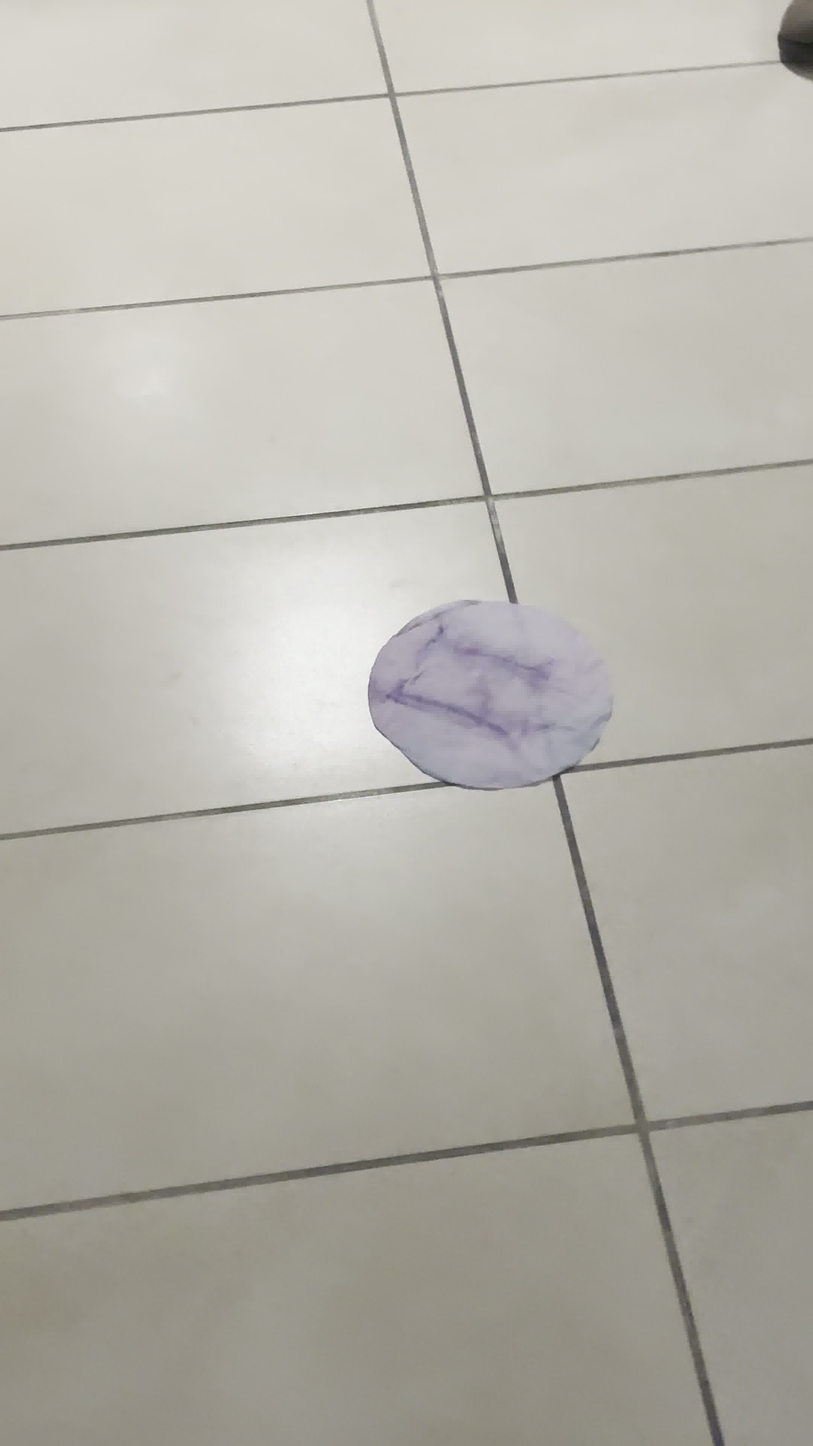Target: (365, 597, 618, 793)
